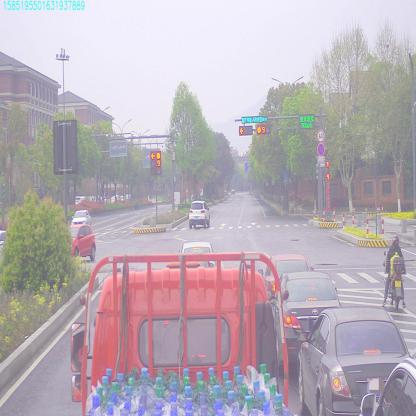traffic-light: (242, 116, 268, 121), (256, 124, 269, 134), (238, 125, 251, 135)
